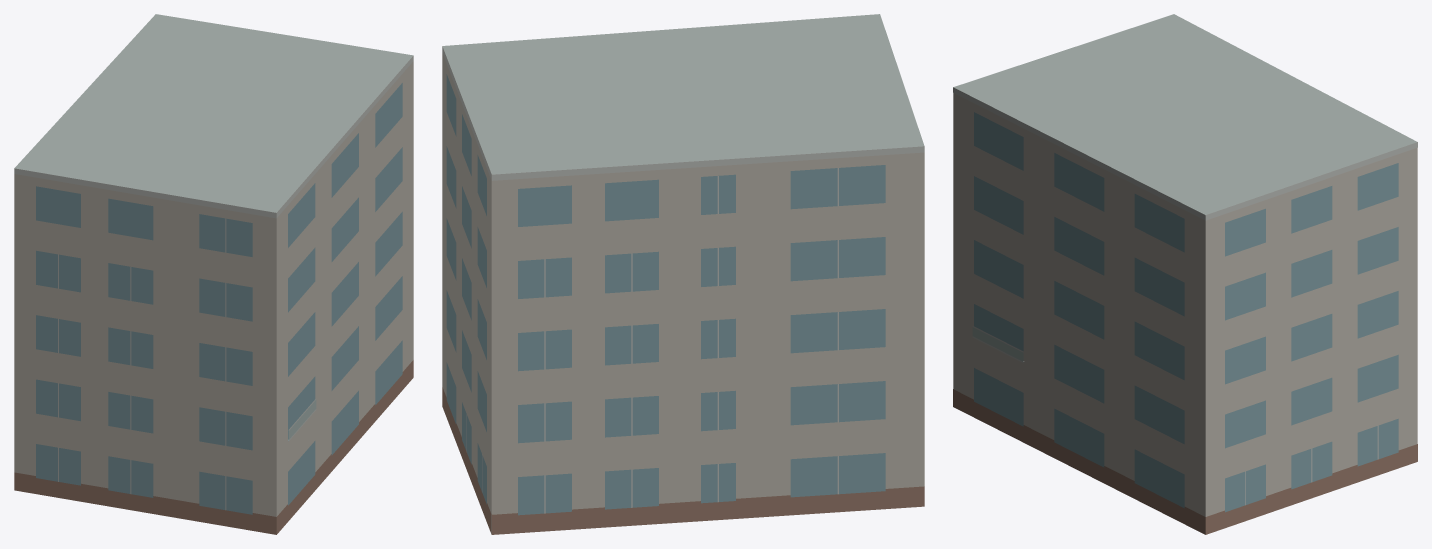
The model's file is survey-upis-32839555.glb.
The picture shows the model from 3 angles, left to right: view 1: azimuth 30°, elevation 25°; view 2: azimuth 150°, elevation 25°; view 3: azimuth 270°, elevation 25°; orthographic projection. The views are drawn at different scales.
Parts seen in each view (by area): view 1: survey-upis-32839555.tmp; view 2: survey-upis-32839555.tmp; view 3: survey-upis-32839555.tmp.
Boxes of the visible parts, x1=… form: survey-upis-32839555.tmp: x1=14, y1=14, x2=413, y2=534; survey-upis-32839555.tmp: x1=442, y1=14, x2=924, y2=534; survey-upis-32839555.tmp: x1=953, y1=14, x2=1417, y2=534.
Bounding box in the file's own units: 19.17 × 14.2 × 18.71.
